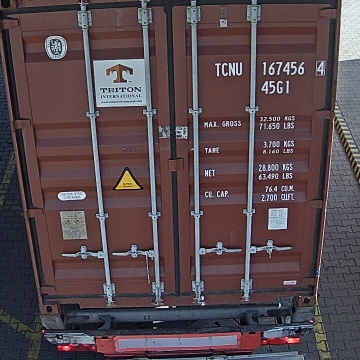serial_id: (215, 60, 325, 76)
